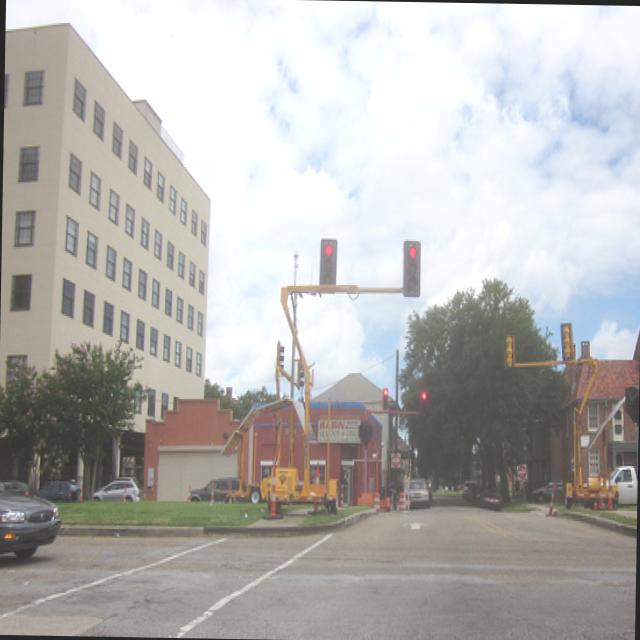Vehicle: (0, 472, 61, 561), (186, 474, 248, 502), (608, 464, 638, 506), (92, 479, 140, 502), (38, 478, 82, 502), (564, 477, 598, 507), (409, 478, 433, 511), (474, 484, 502, 508), (466, 484, 479, 502)
